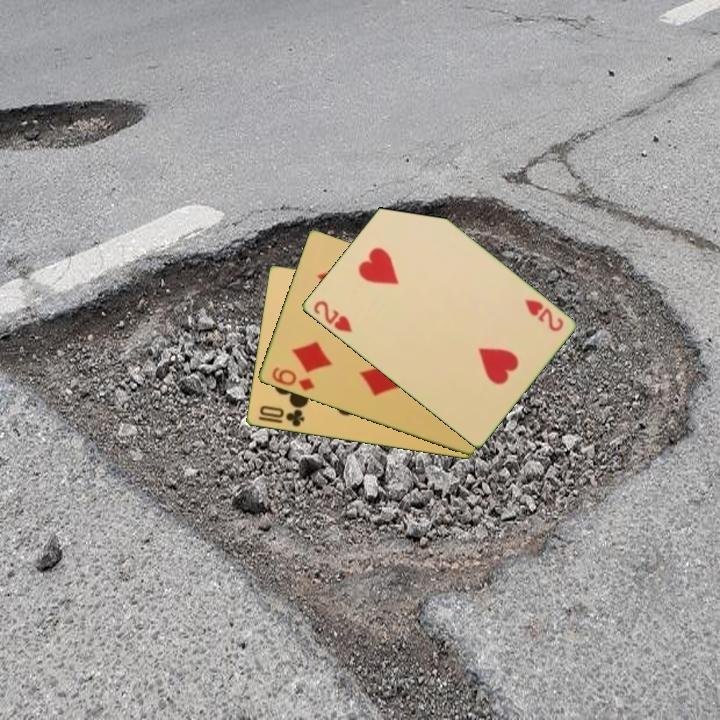10c: (256, 402, 307, 430)
2h: (309, 297, 355, 336), (521, 296, 566, 335)
6d: (268, 364, 317, 394)
